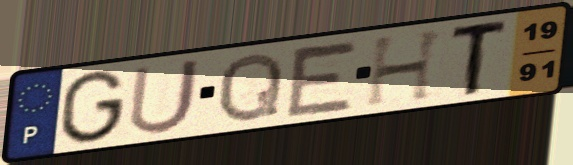E: (282, 39, 362, 120)
G: (55, 68, 129, 146)
H: (362, 25, 449, 110)
Q: (213, 50, 287, 125)
T: (448, 16, 513, 99)
U: (125, 55, 205, 137)
